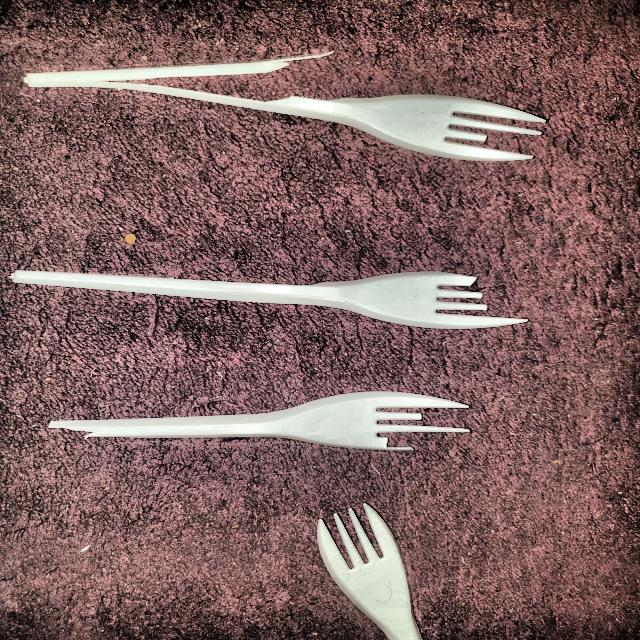plastic utensil: (31, 42, 544, 166), (2, 256, 538, 334), (53, 375, 480, 470), (313, 501, 431, 640)
